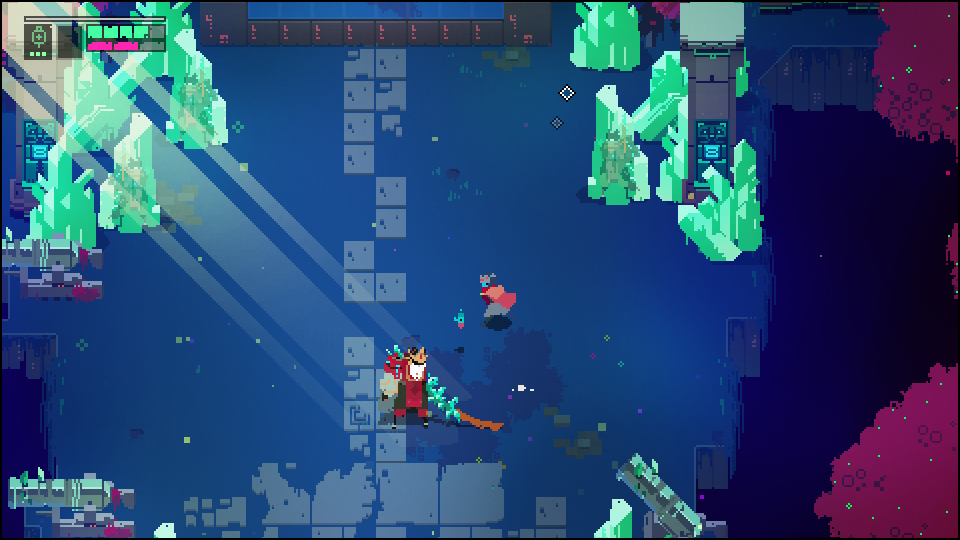hanged_man: (376, 340, 462, 425)
player: (479, 272, 518, 327)
